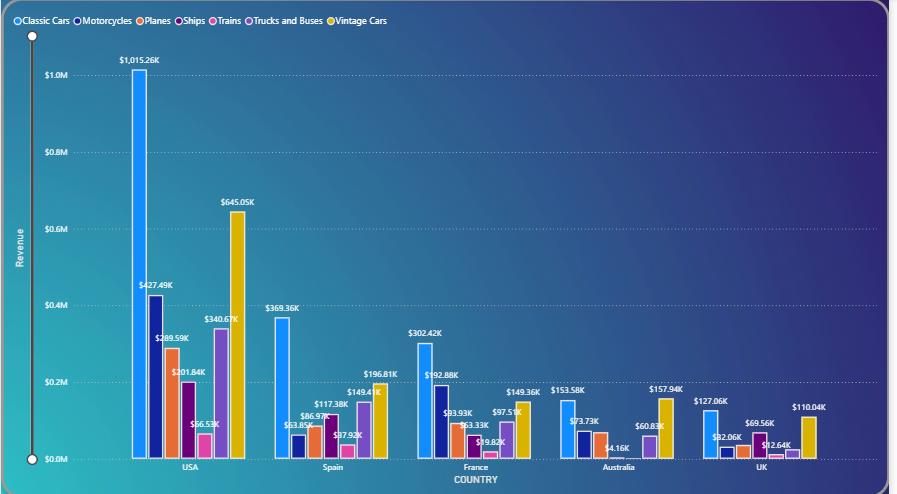

Layout of this report page (visuals, bound fields, positions):
{"tool":"powerbi","page":{"name":"Clustered Column Column","canvas":[1280,720],"ordinal":8},"visuals":[{"type":"clusteredColumnChart","fields":{"Category":["Vehicle Orders.COUNTRY"],"Series":["Vehicle Orders.PRODUCTLINE"],"Y":["Measure Table.Revenue"]},"box":[0,0,1280,720],"z":0}]}

Visuals, with their boxes in screenshot pixels (x1, y1, x2, y2), scaled from the page's 1280x720 canvas onto the 897x494 screenshot:
clusteredColumnChart - Vehicle Orders.COUNTRY x Vehicle Orders.PRODUCTLINE: BBox(0, 0, 896, 493)
